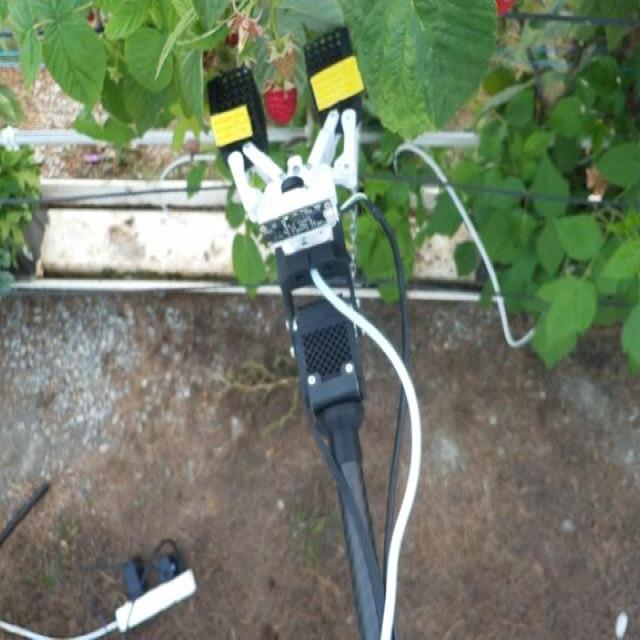Riped berries: (261, 77, 299, 127), (491, 0, 517, 25)
